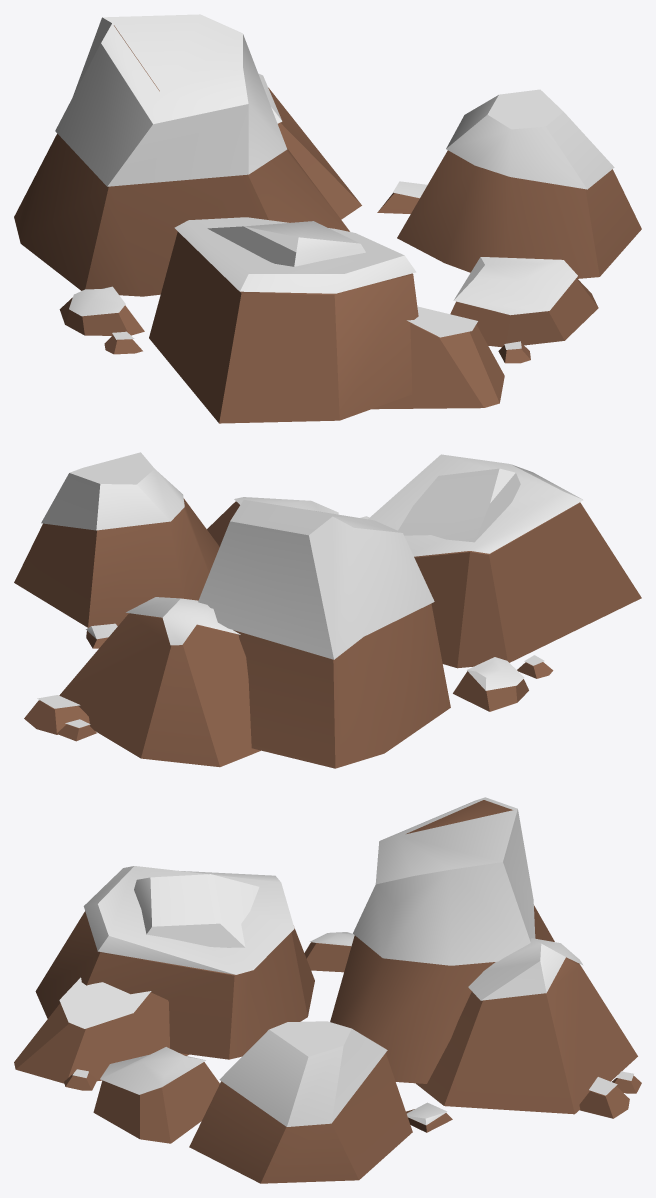
File: Rocks01.fbx
3 renders of one model, top to bottom at view 1: azimuth 30°, elevation 25°; view 2: azimuth 150°, elevation 25°; view 3: azimuth 270°, elevation 25°, orthographic. The views are drawn at different scales.
Parts seen in each view (by area): view 1: Rocks01 Snow; view 2: Rocks01 Snow, Rocks01 Shadow; view 3: Rocks01 Snow, Rocks01 Shadow.
Boxes of the visible parts, box(x1,y1,x2,y2) form: Rocks01 Snow: box(14, 14, 641, 423); Rocks01 Snow: box(14, 452, 641, 768); Rocks01 Shadow: box(39, 502, 580, 728); Rocks01 Snow: box(14, 797, 641, 1183); Rocks01 Shadow: box(73, 800, 630, 1125).
Size of the model in its own units: 576 by 237 by 639.
